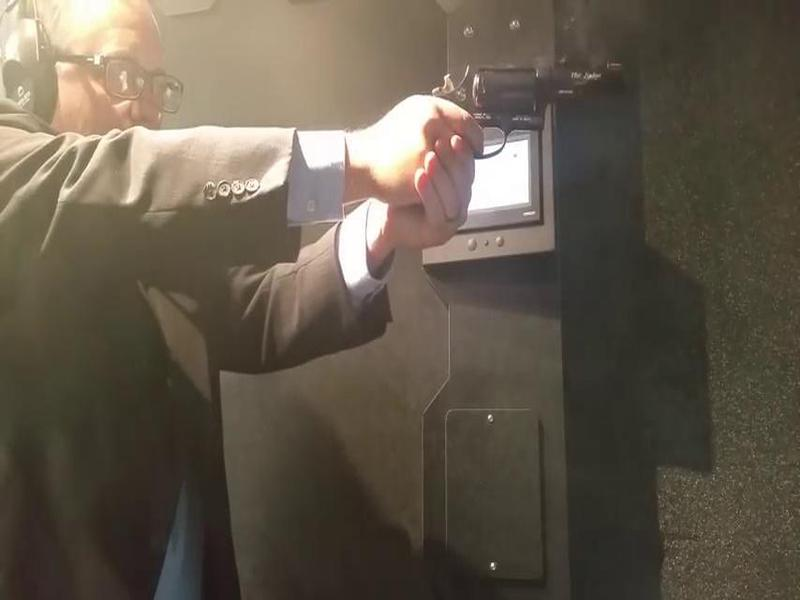Revolver: (378, 28, 645, 182)
